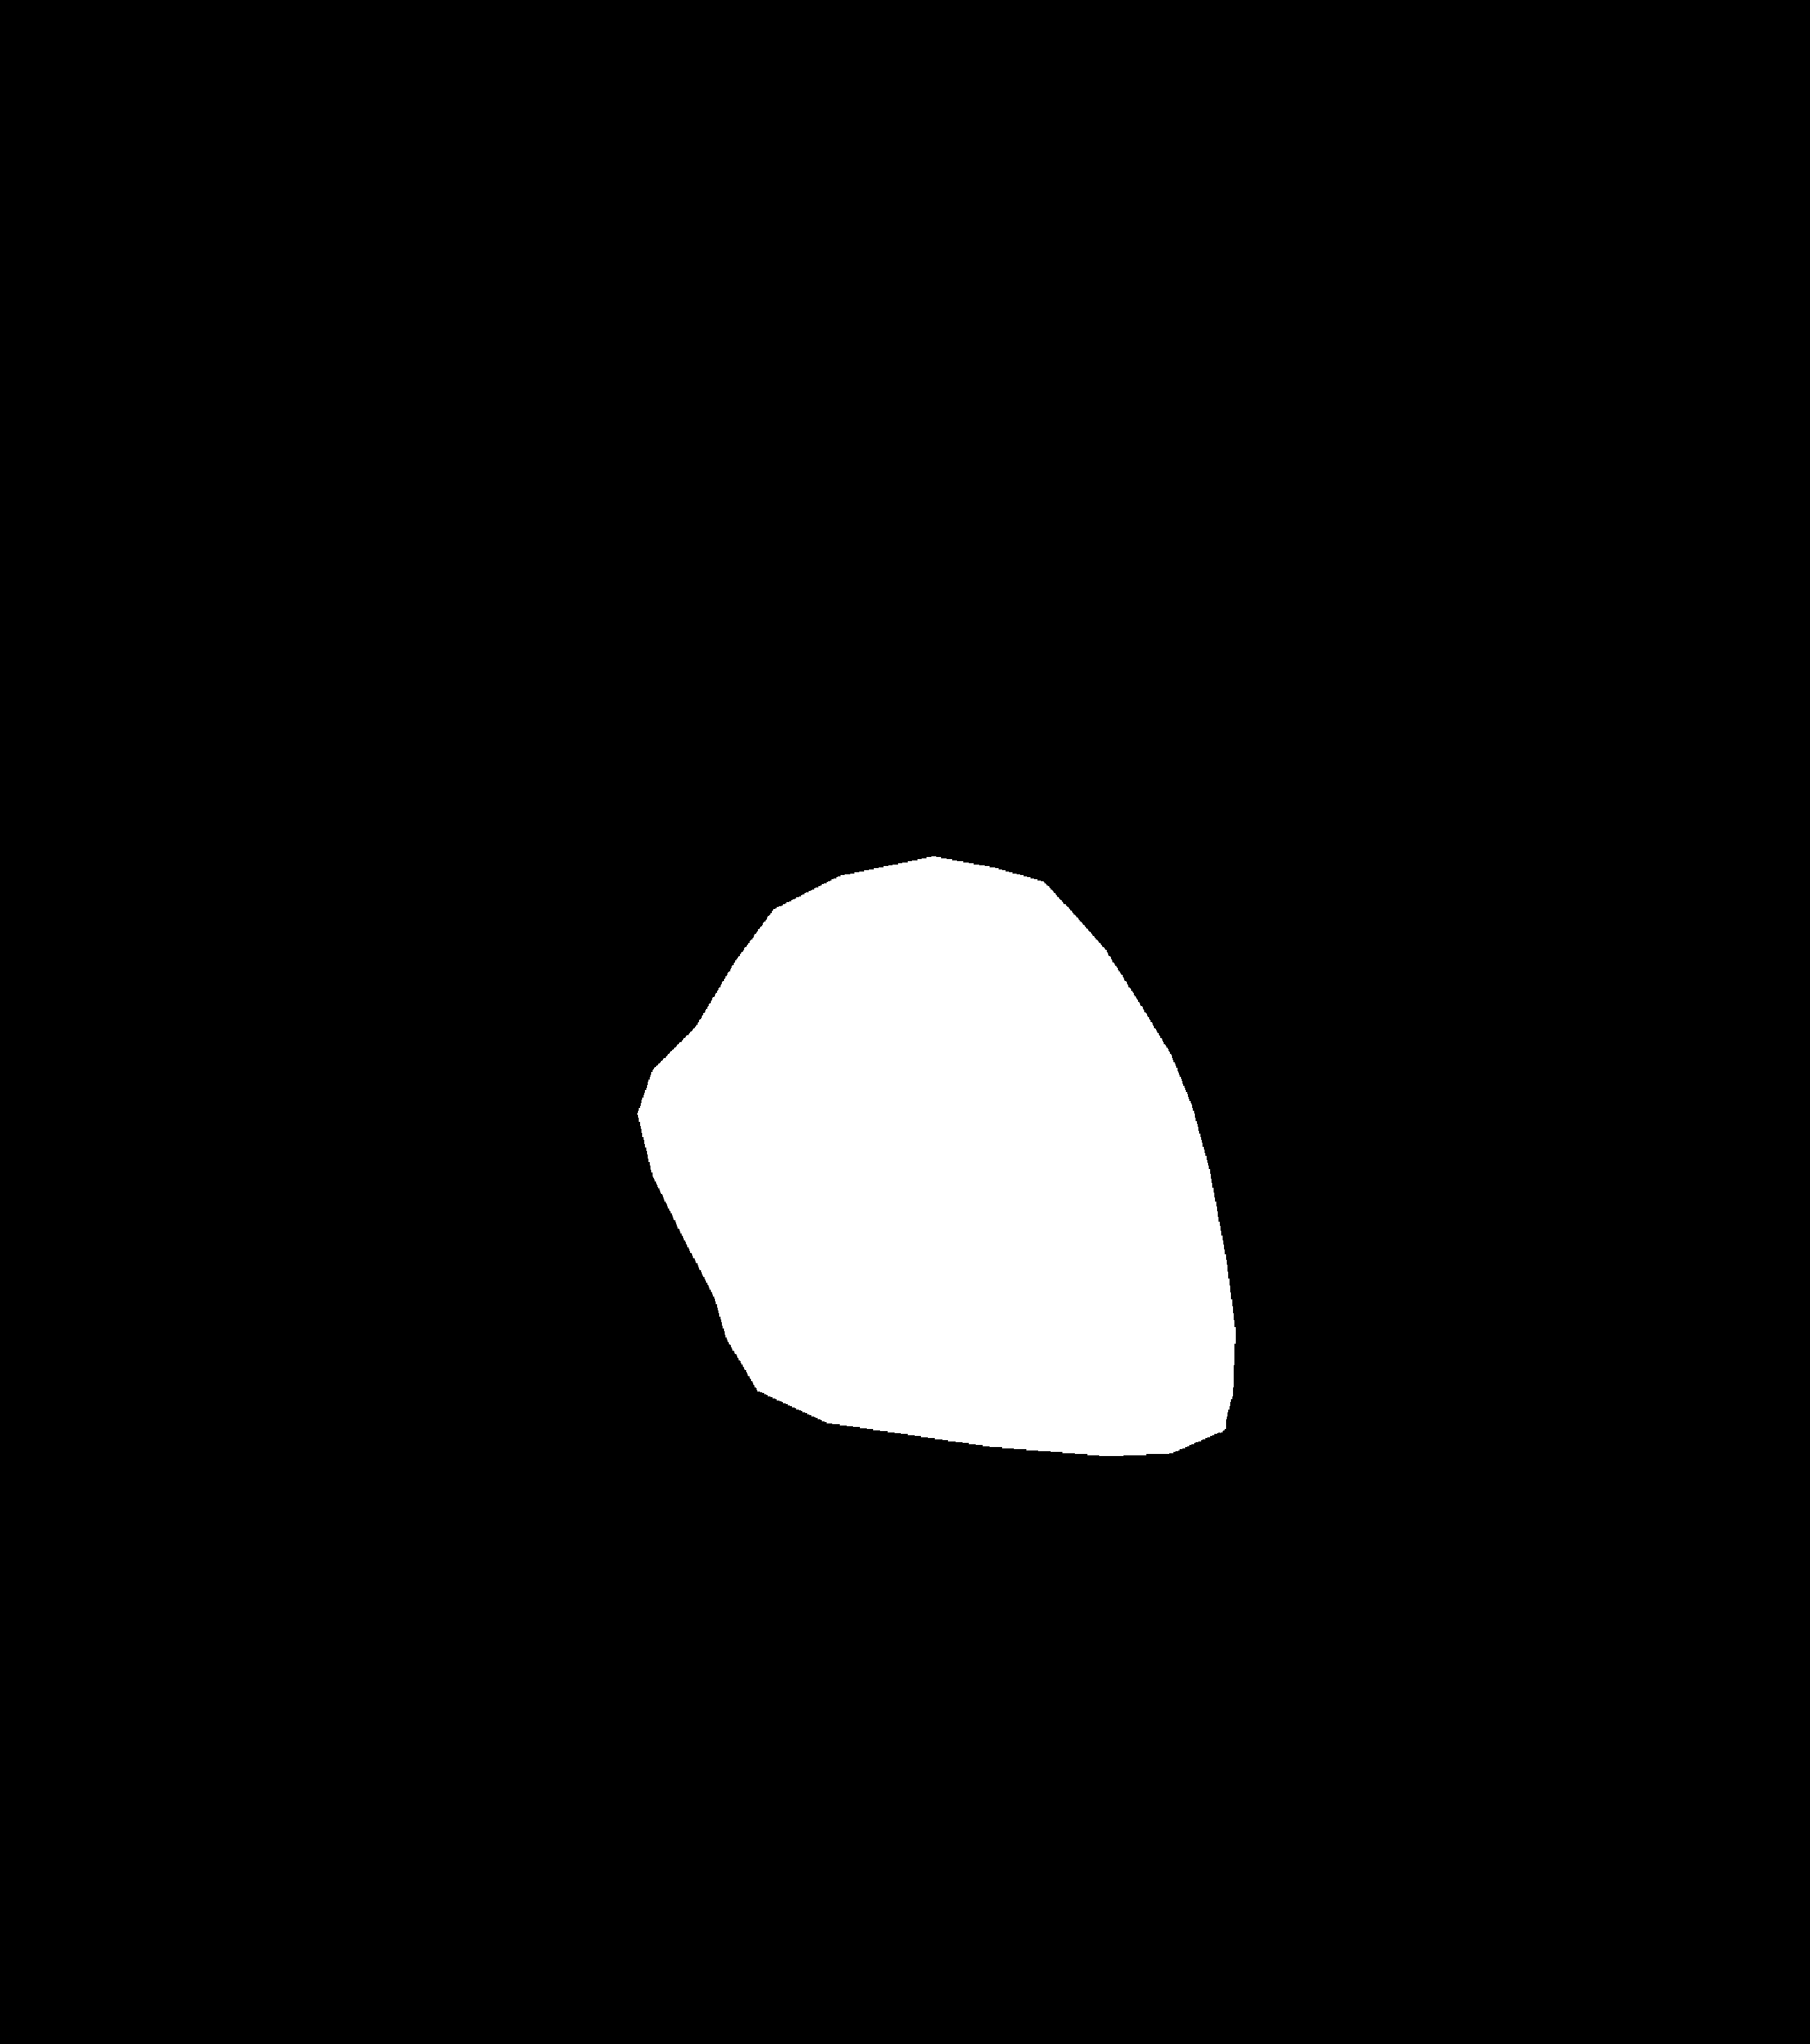heart: (645, 914, 1232, 1471)
left_lung: (239, 320, 851, 1548)
right_lung: (1015, 323, 1574, 1612)
